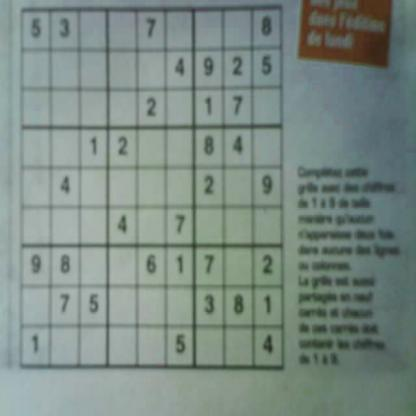sudoku: (17, 0, 289, 376)
